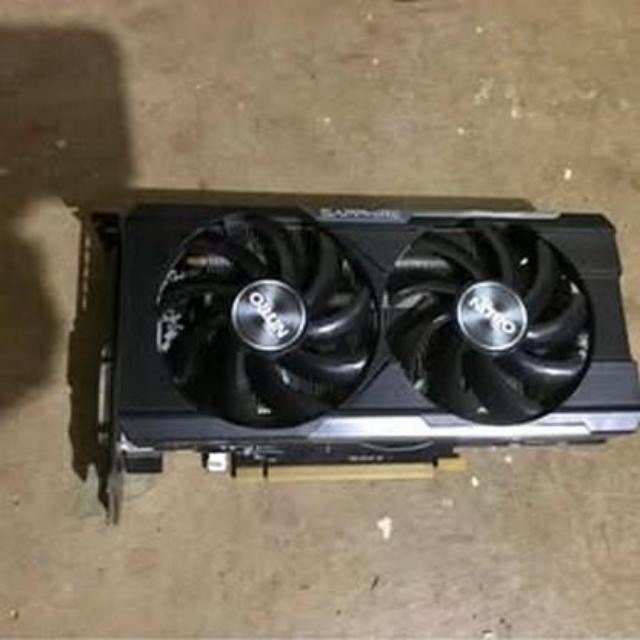GPU: (86, 190, 638, 498)
